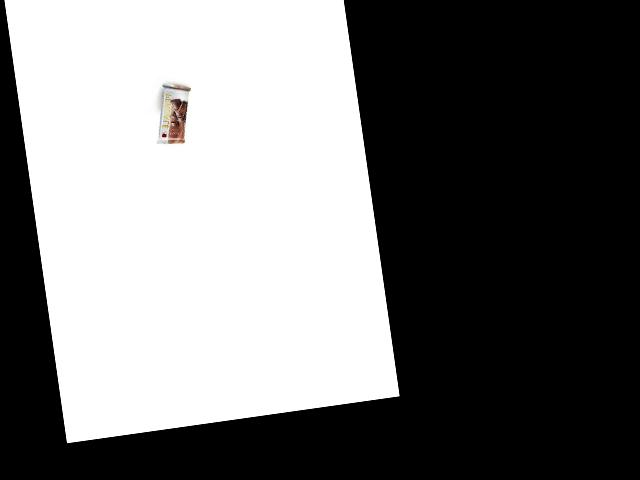chocolate: (148, 84, 202, 147)
